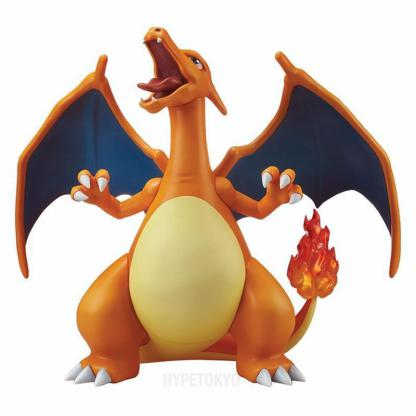Charizard: (1, 30, 403, 393)
